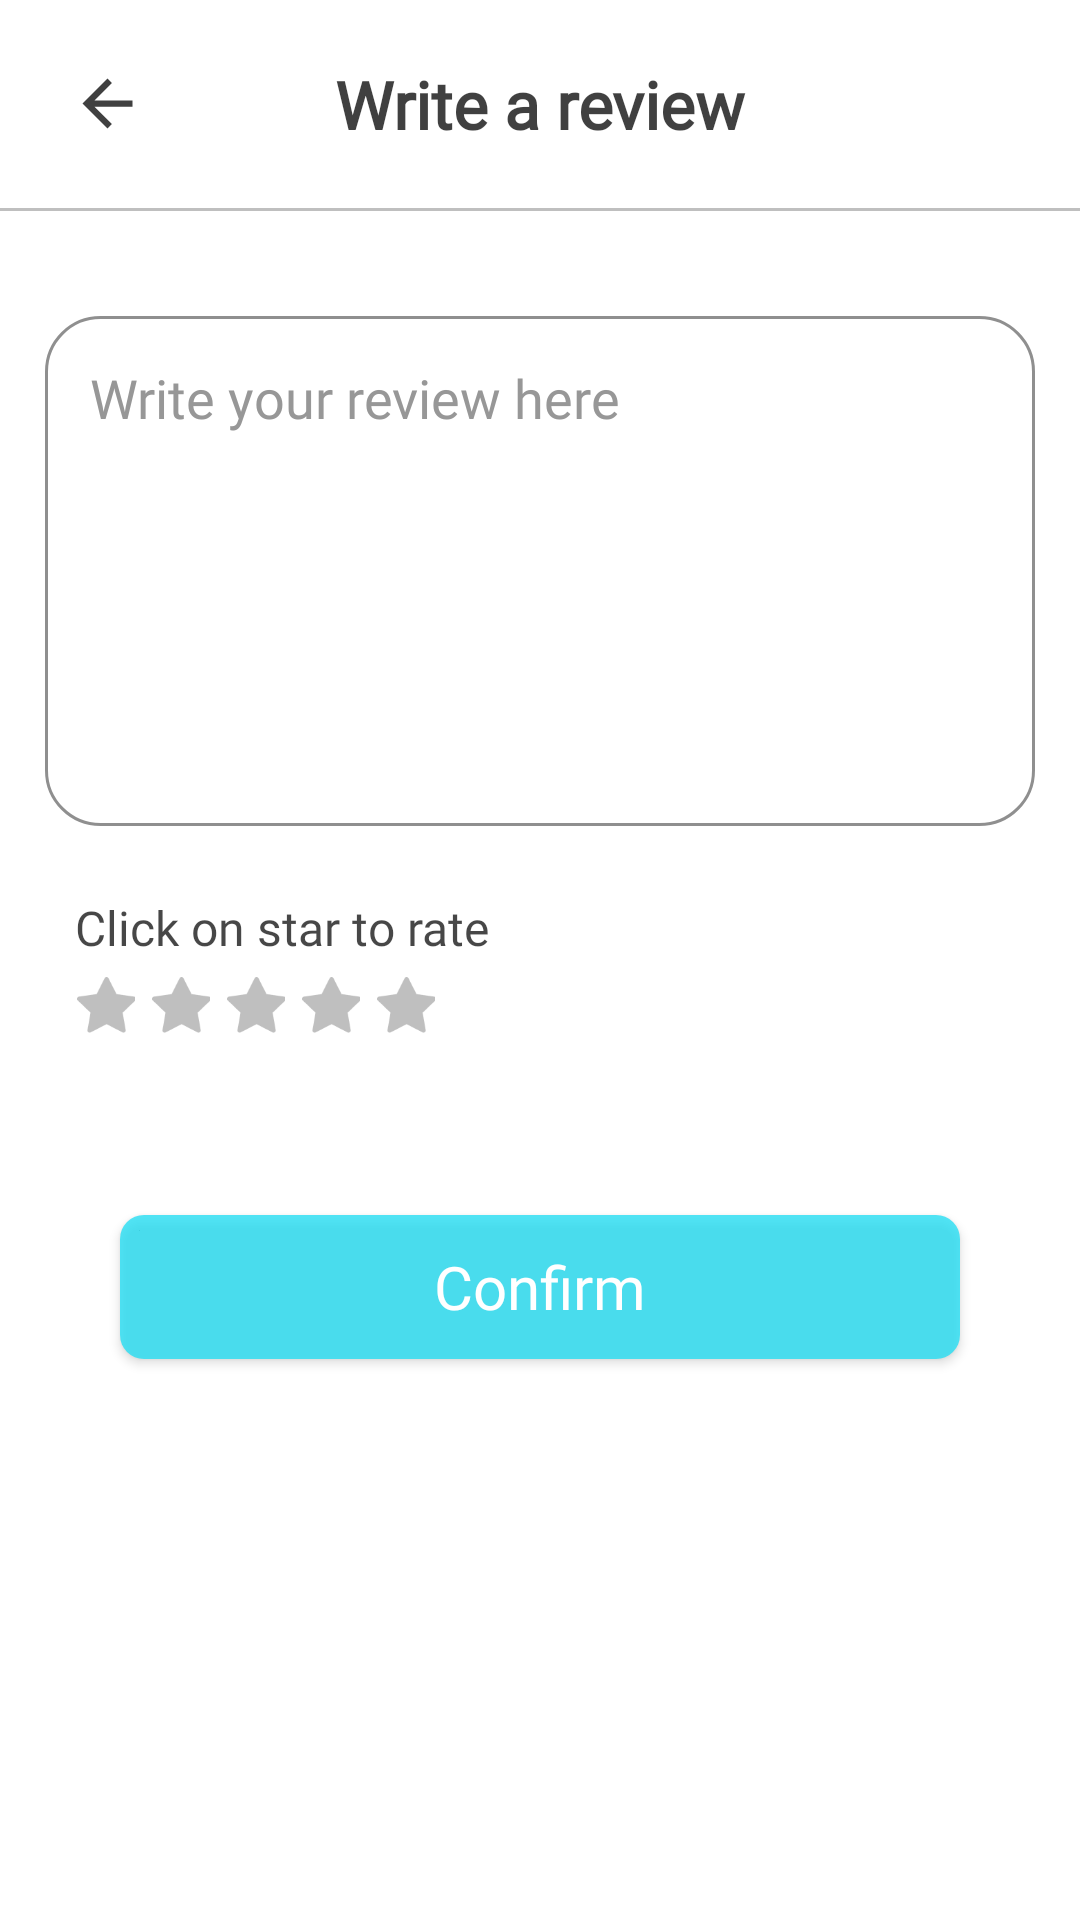

Screen size 1080×1920. Icon name, then its center in pixels as point (x, y):
arrow back: point (107, 103)
rating star: point (106, 1005), point (181, 1005), point (256, 1005), point (331, 1005), point (406, 1005)
